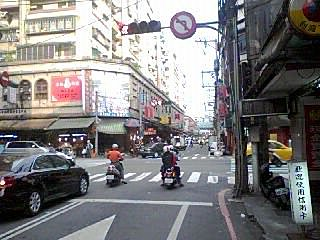No_left_turn: (170, 11, 196, 39)
